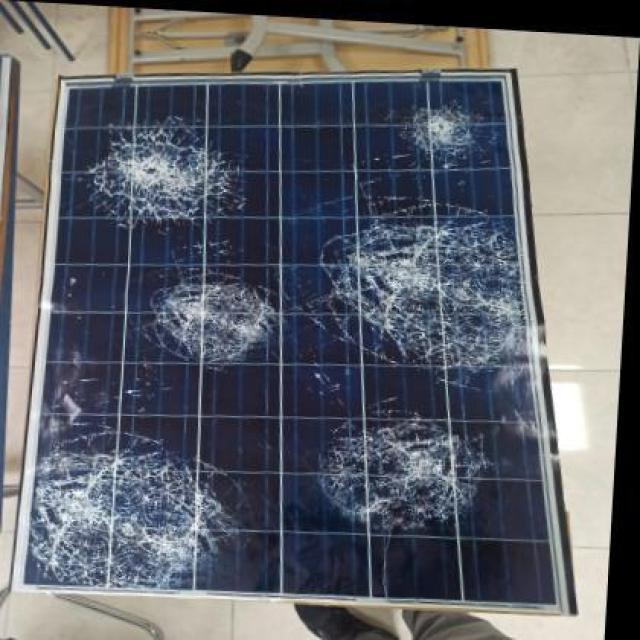cracked: (21, 67, 576, 610)
